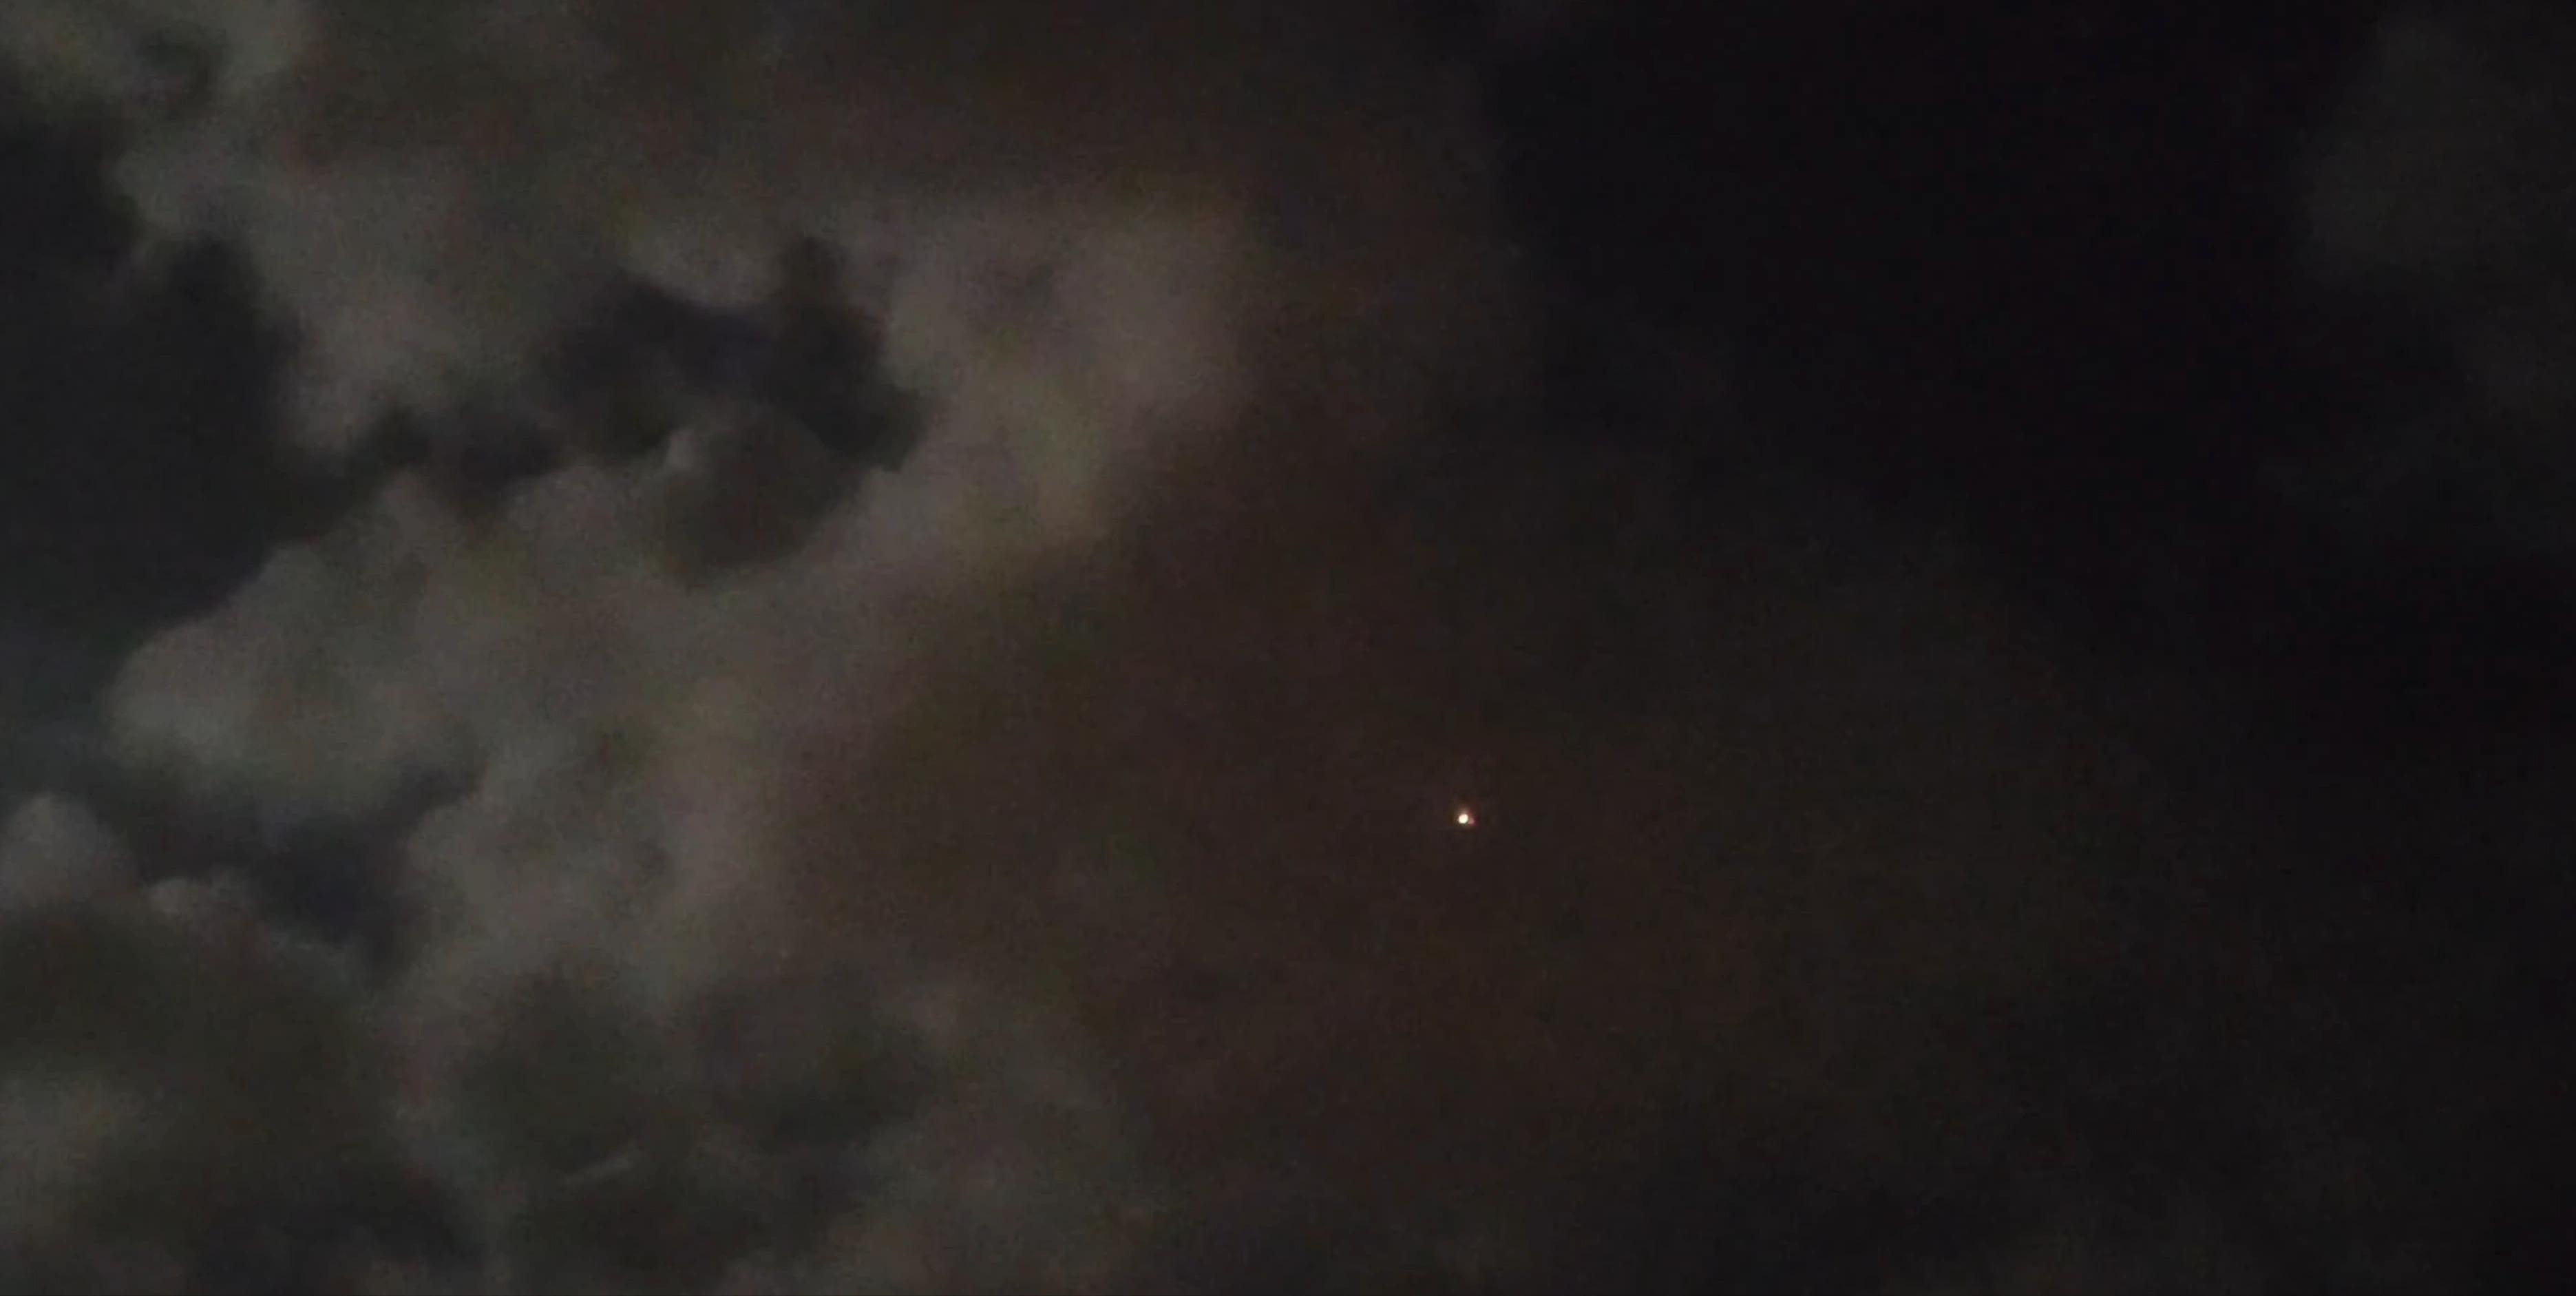Plane: (1449, 777, 1494, 850)
